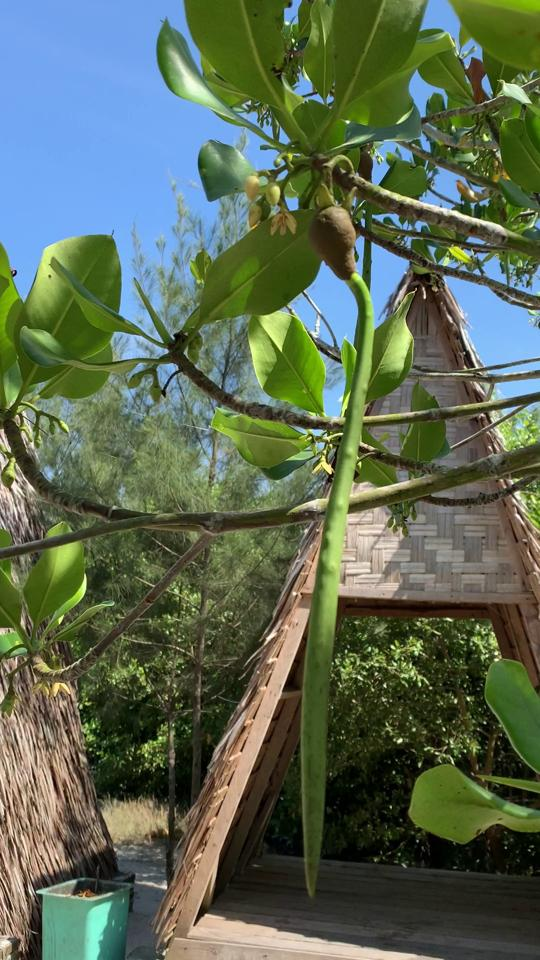setengah matang: (294, 167, 375, 903)
